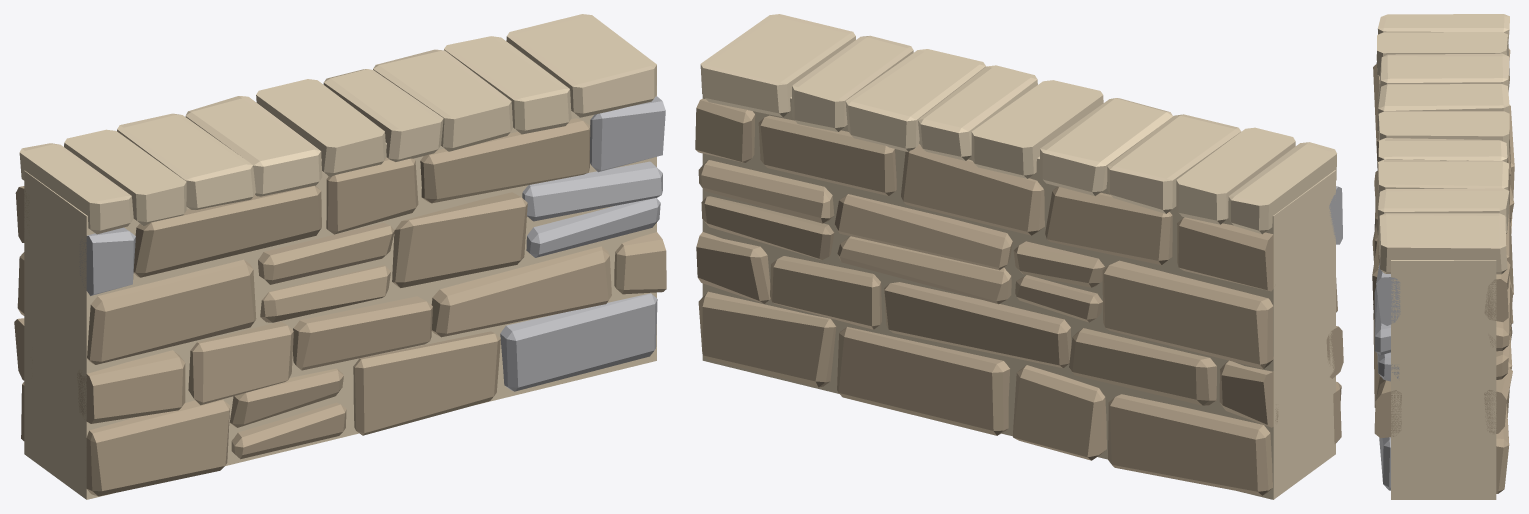
File: building.stonewall.glb
3 renders of one model, left to right at view 1: azimuth 30°, elevation 25°; view 2: azimuth 150°, elevation 25°; view 3: azimuth 270°, elevation 25°, orthographic. The views are drawn at different scales.
Parts seen in each view (by area): view 1: PaintDark, Paint, Stone; view 2: PaintDark, Paint; view 3: Paint, PaintDark, Stone.
Part boxes in pixels (<box>): PaintDark: <box>14,118,666,496</box>; Paint: <box>19,14,656,499</box>; Stone: <box>79,96,665,391</box>; PaintDark: <box>695,98,1343,495</box>; Paint: <box>700,14,1336,499</box>; Paint: <box>1376,14,1509,499</box>; PaintDark: <box>1372,48,1514,493</box>; Stone: <box>1374,62,1400,490</box>.
Size of the model in its own units: 2 by 1 by 0.5132.
